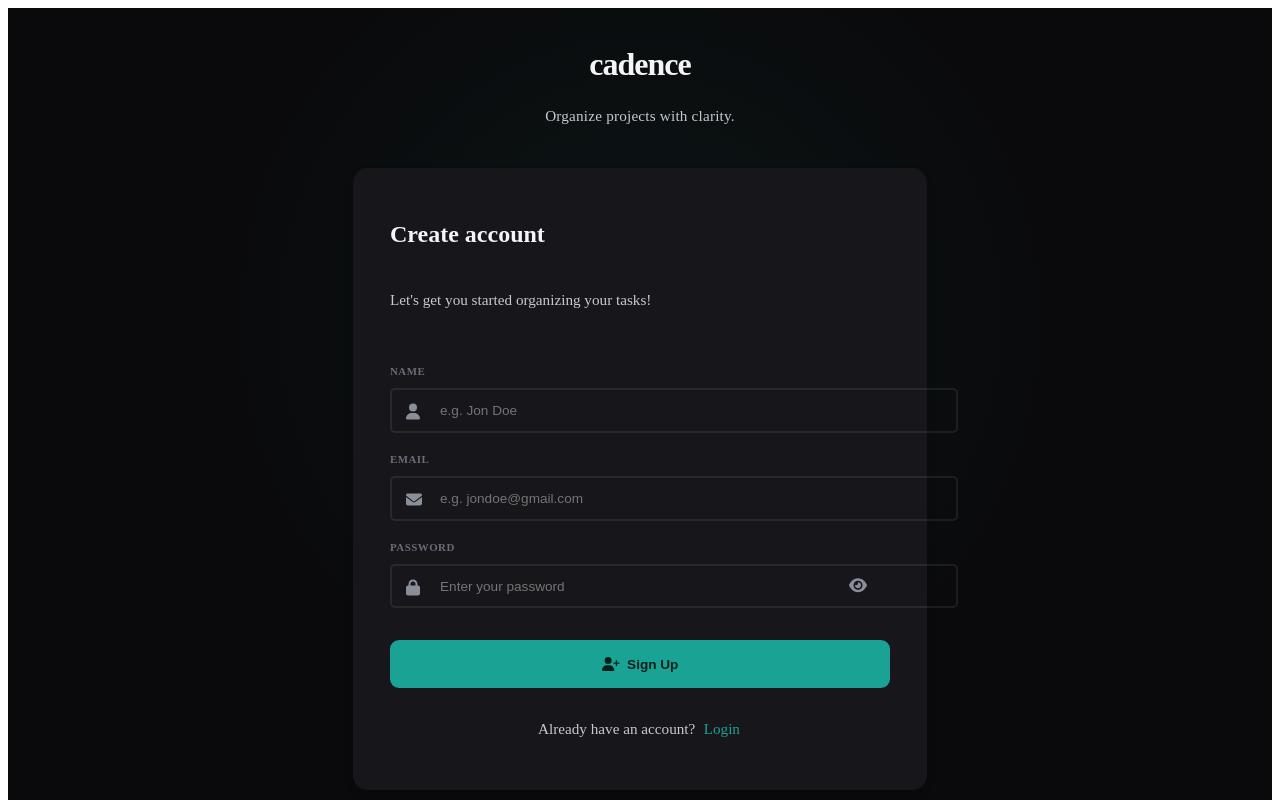
Test: Register page › requires an uppercase letter in the password
The width and height of the screenshot is (1280, 800).
Type "Jon Doe" into the field labelled "Name" at (674,411), box x1=390 y1=388 x2=958 y2=433
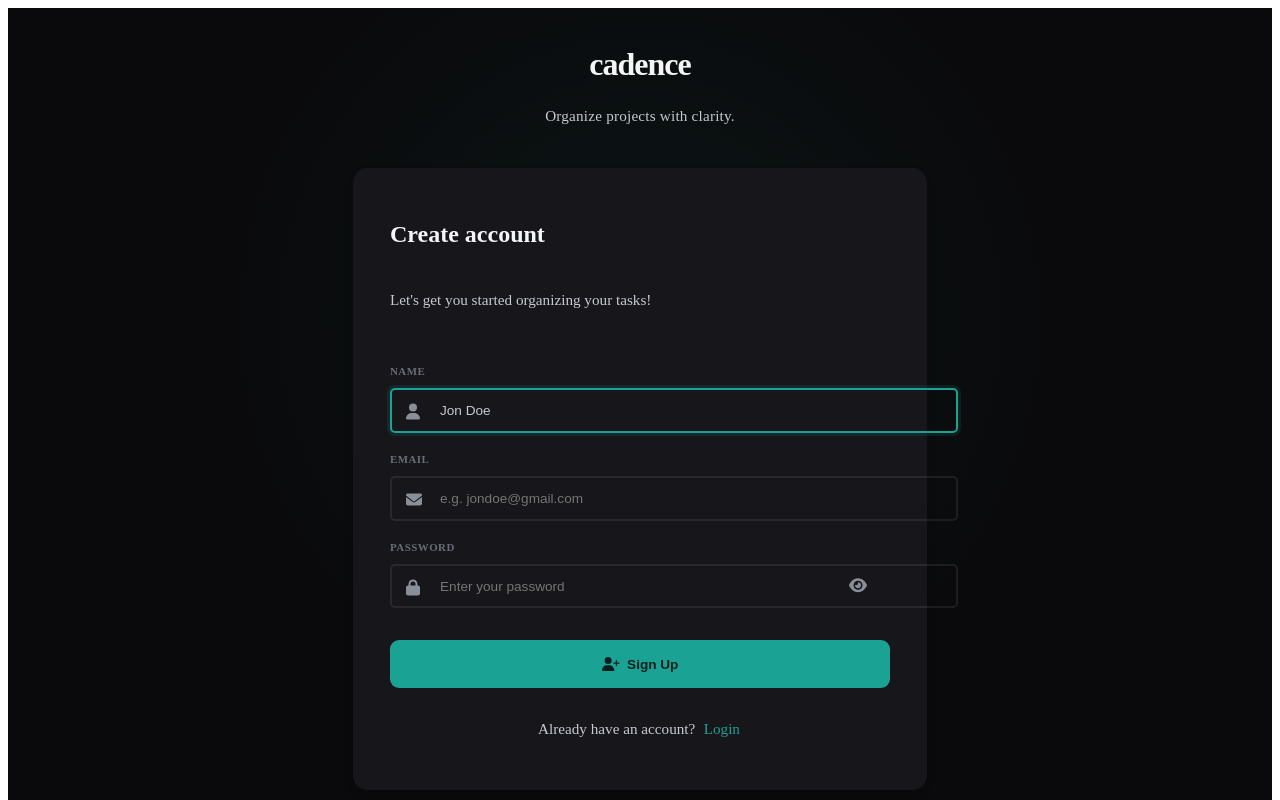
Type "jon@doe.com" into the field labelled "Email" at (674,498), box x1=390 y1=476 x2=958 y2=521
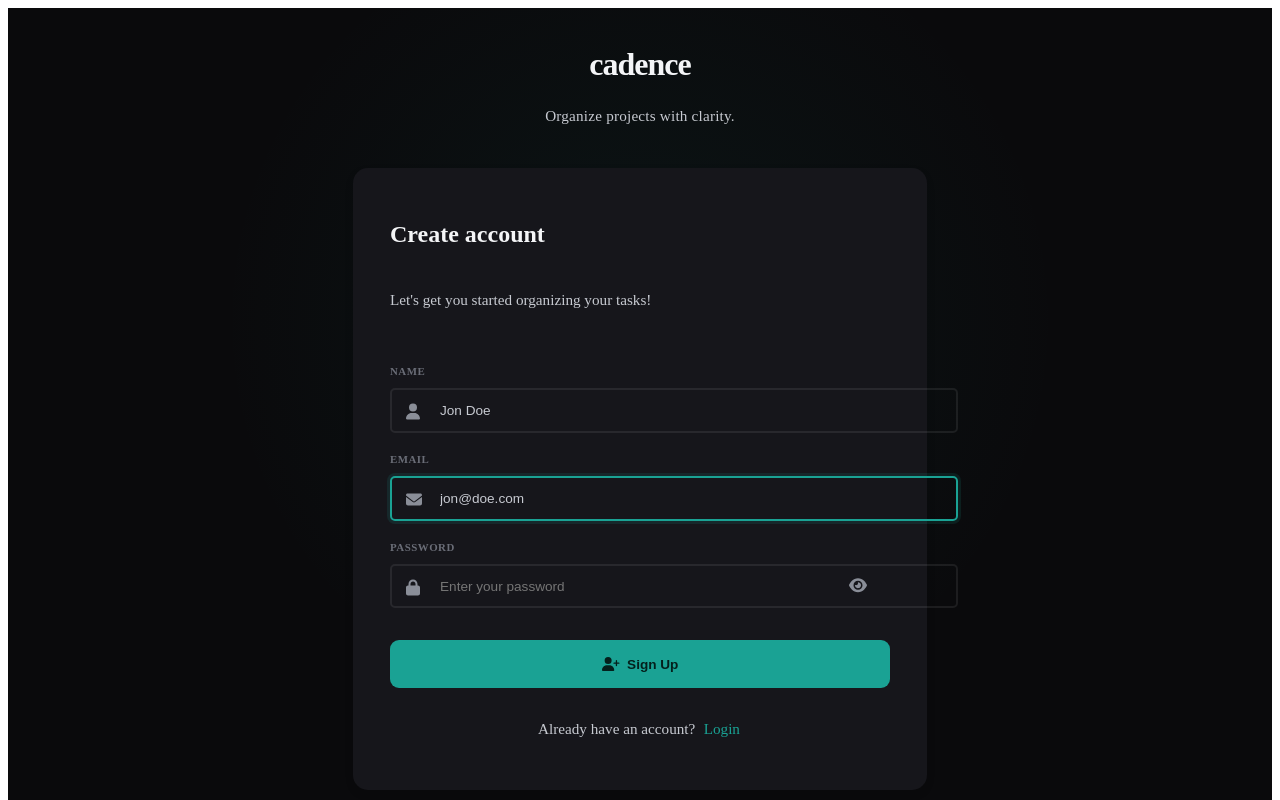
Type "abcdefg1" into the password field labelled "Password" at (674,586), box x1=390 y1=564 x2=958 y2=608
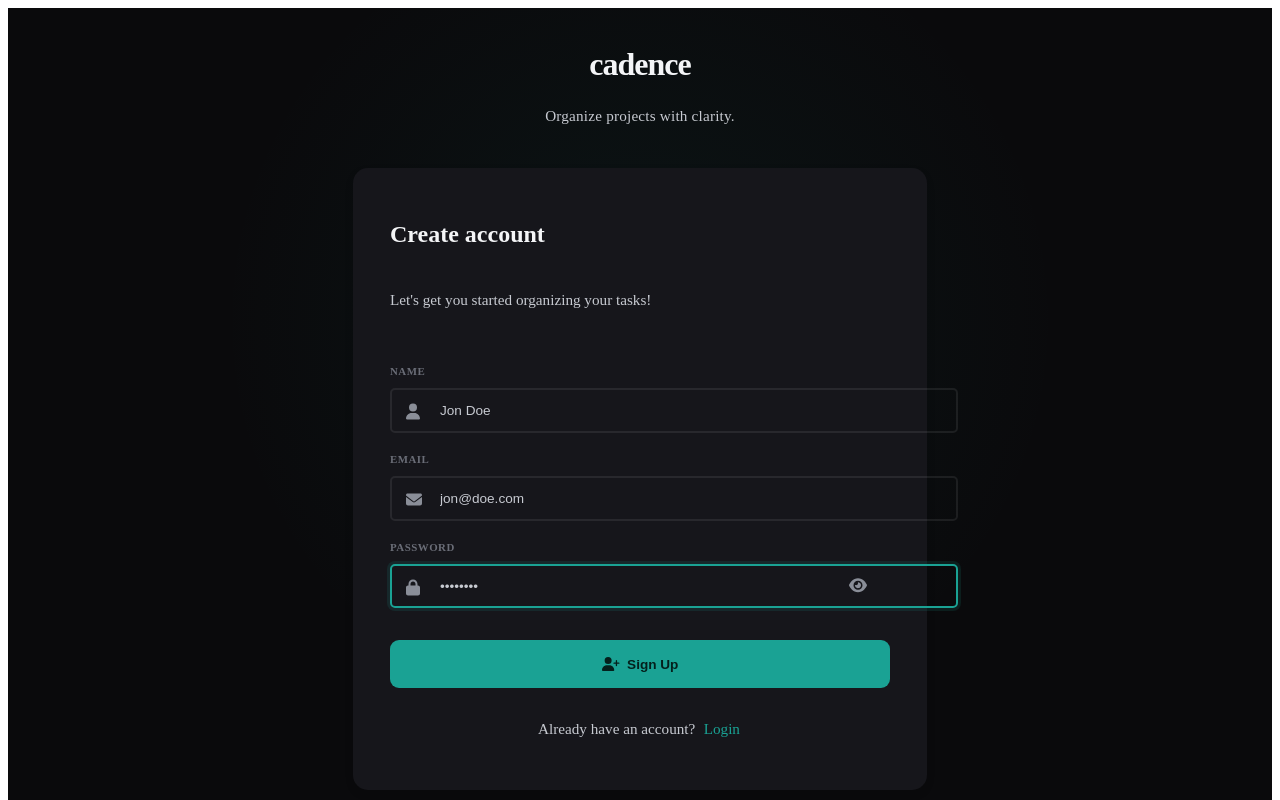
Click the button "Sign Up" at (640,664), box x1=390 y1=640 x2=890 y2=688
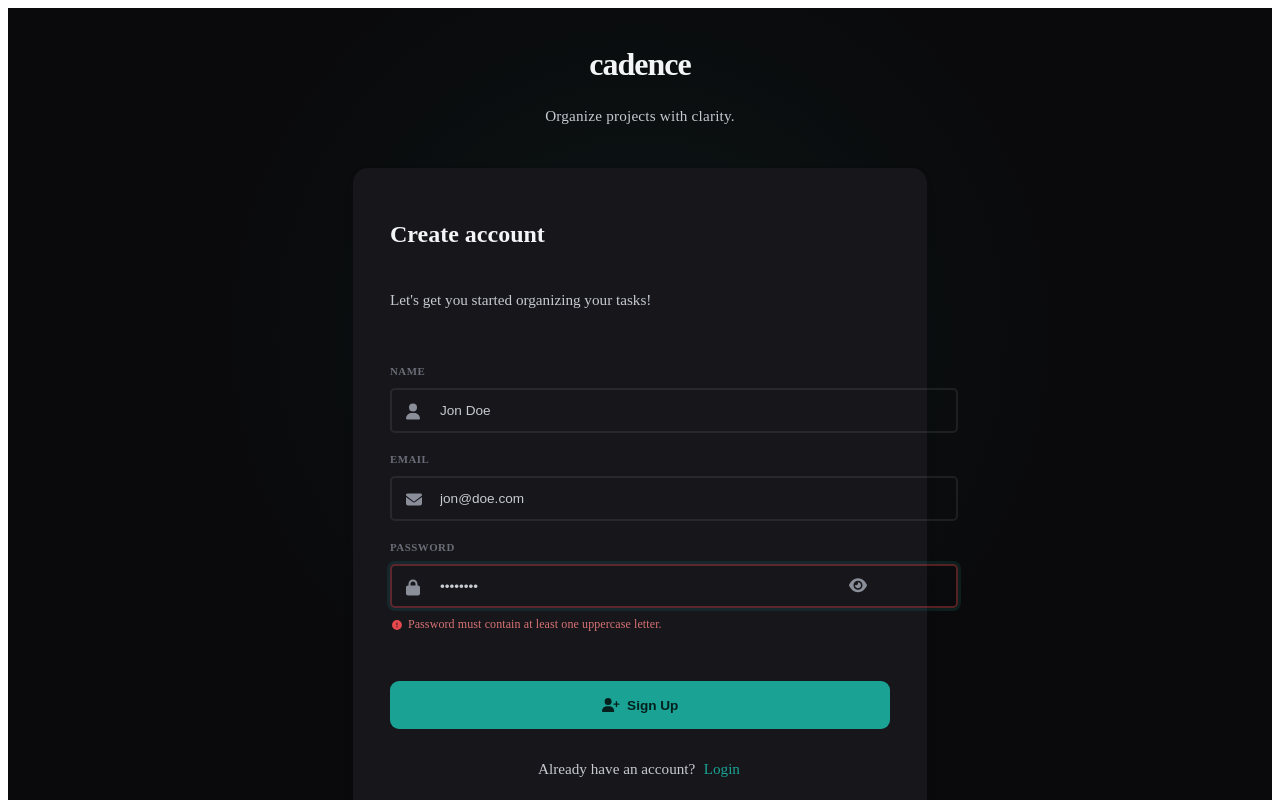
Result: the text "Password must contain at least one uppercase letter." is shown at x1=408 y1=616 x2=662 y2=633
